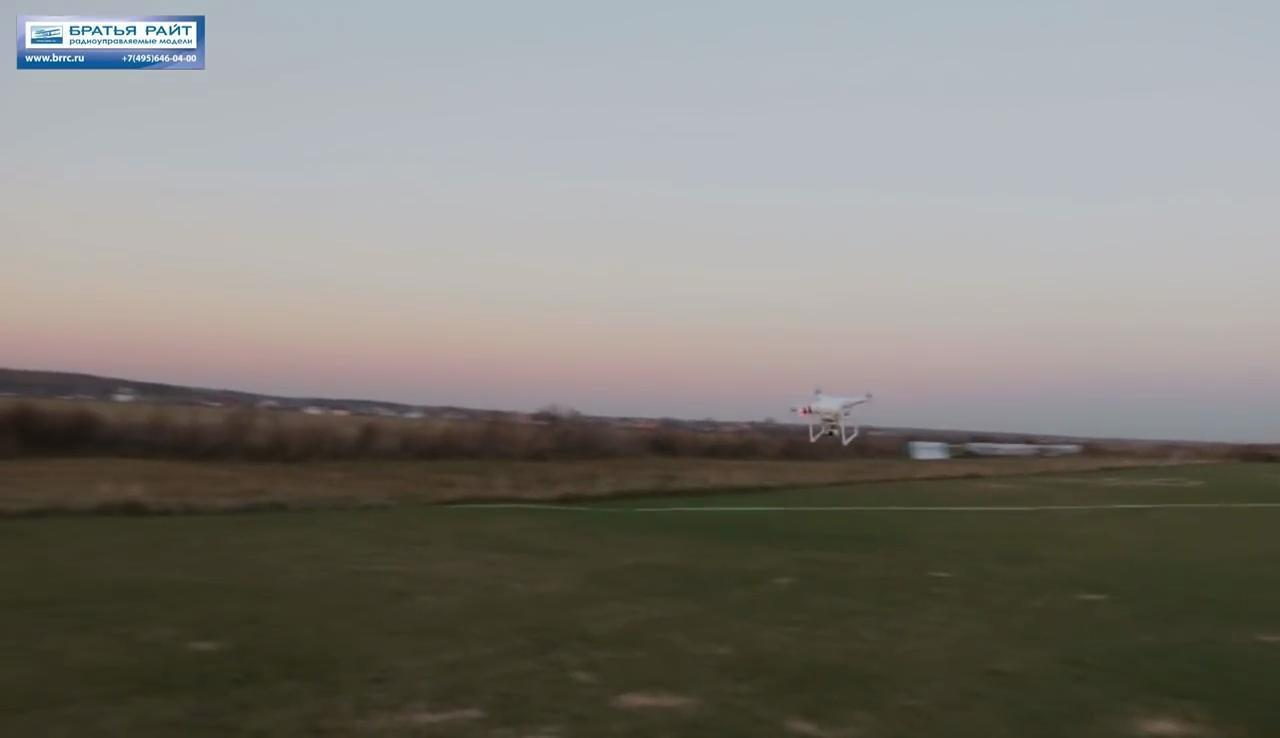drone: (794, 385, 888, 454)
